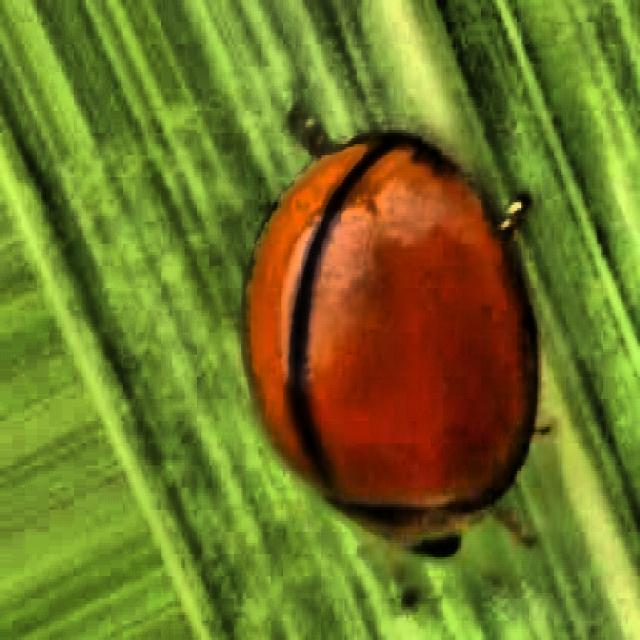Ladybug: (168, 48, 595, 632)
